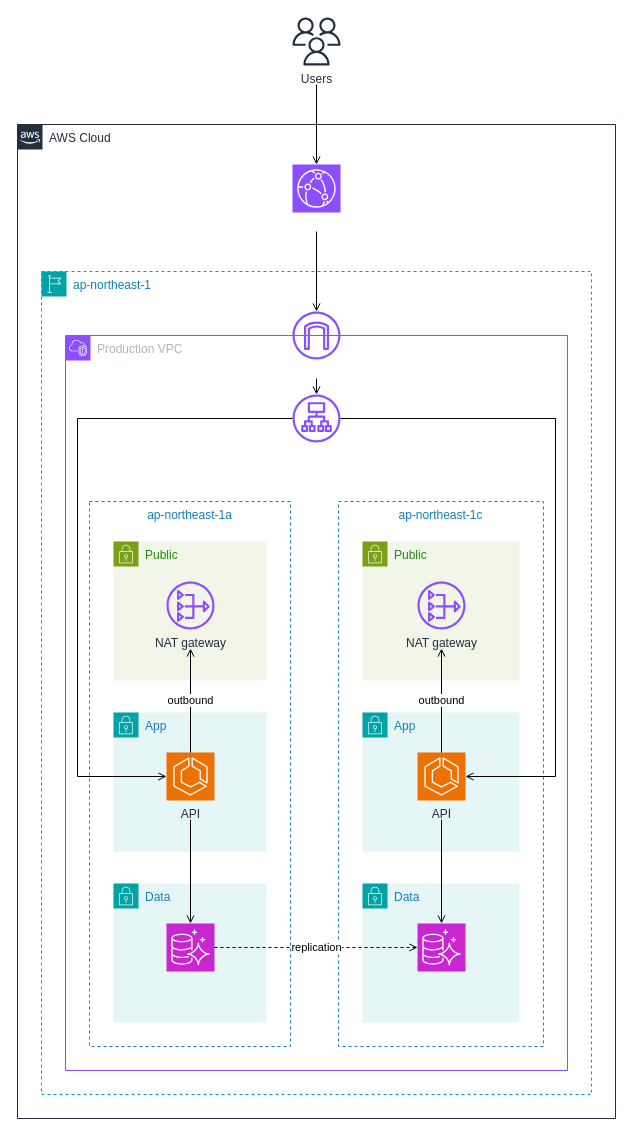
The diagram is 633 pixels wide and 1136 high, and some of its shapes have lost their labels. The centre of each missing label's shape, as x and y in pixels:
"ALB" goes at pixel 316 418.
"Aurora Reader" goes at pixel 441 947.
"Aurora Writer" goes at pixel 190 947.
"CloudFront" goes at pixel 316 188.
"IGW" goes at pixel 316 335.
